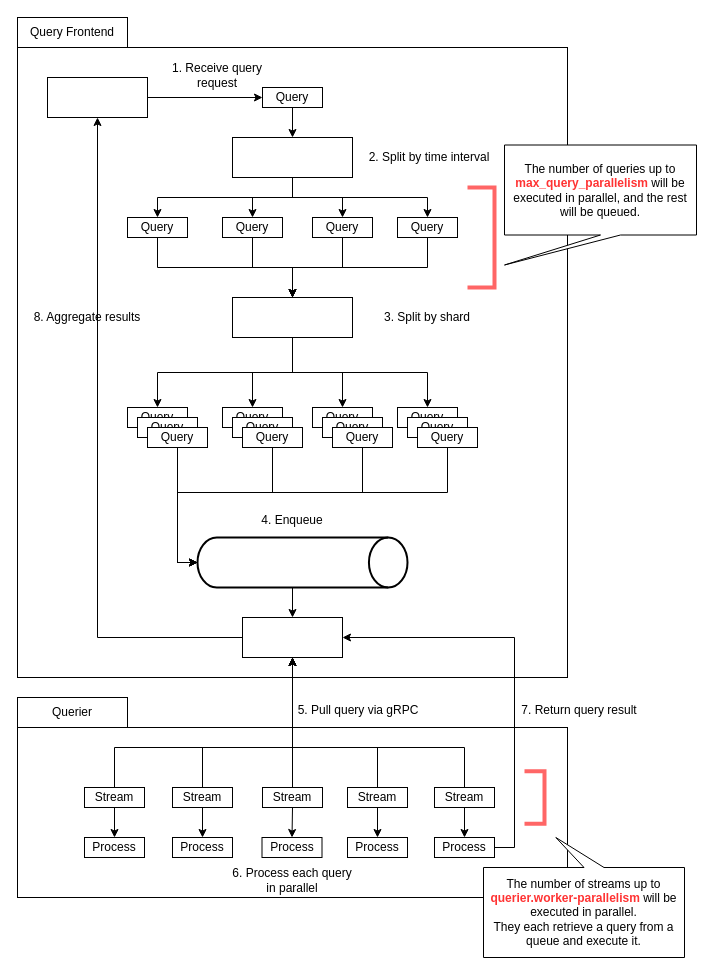
This 714x975 diagram has some shape labels left out. The shapes that lost their labels are listed below. From the top down, each one's centre as x and y in pixels, then its label:
At point 97,97: "HTTP Server".
At point 292,157: "time interval splitter".
At point 292,317: "shard splitter".
At point 302,562: "Request Queue".
At point 292,637: "gRPC Server".
